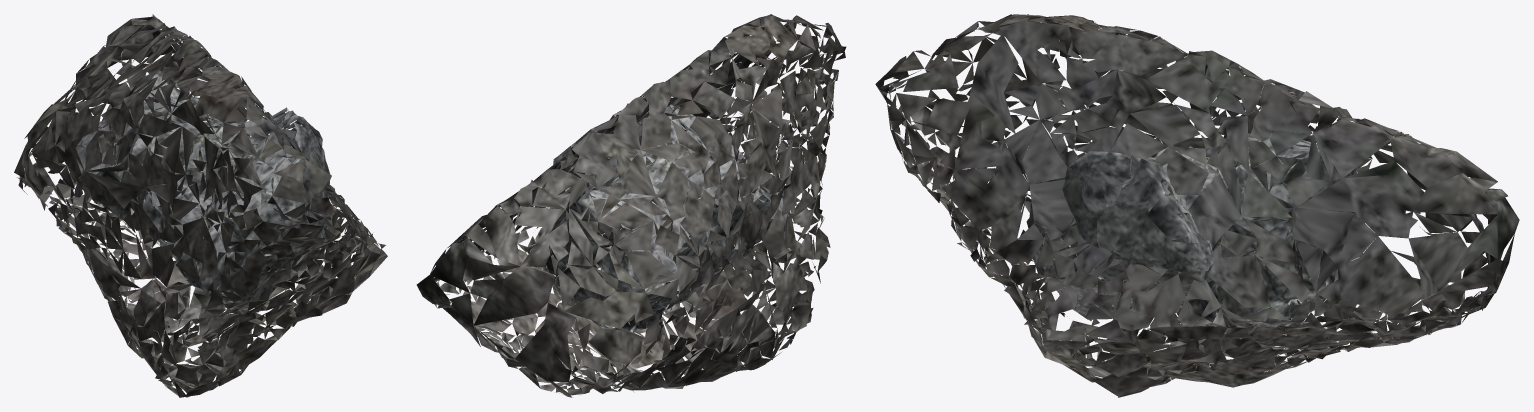
File: moonrocks.glb
3 renders of one model, left to right at view 1: azimuth 30°, elevation 25°; view 2: azimuth 150°, elevation 25°; view 3: azimuth 270°, elevation 25°, orthographic. The views are drawn at different scales.
Visible parts, largest first — view 1: Object_2 (×3); view 2: Object_2 (×3); view 3: Object_2 (×3).
Part boxes in pixels (x1,y1,x2,y2): Object_2 (×3): (14, 14, 387, 397); Object_2 (×3): (416, 14, 846, 397); Object_2 (×3): (875, 14, 1519, 397).
Bounding box in the file's own units: 0.0773 × 0.1049 × 0.1637.
4 materials, 4 textured.
